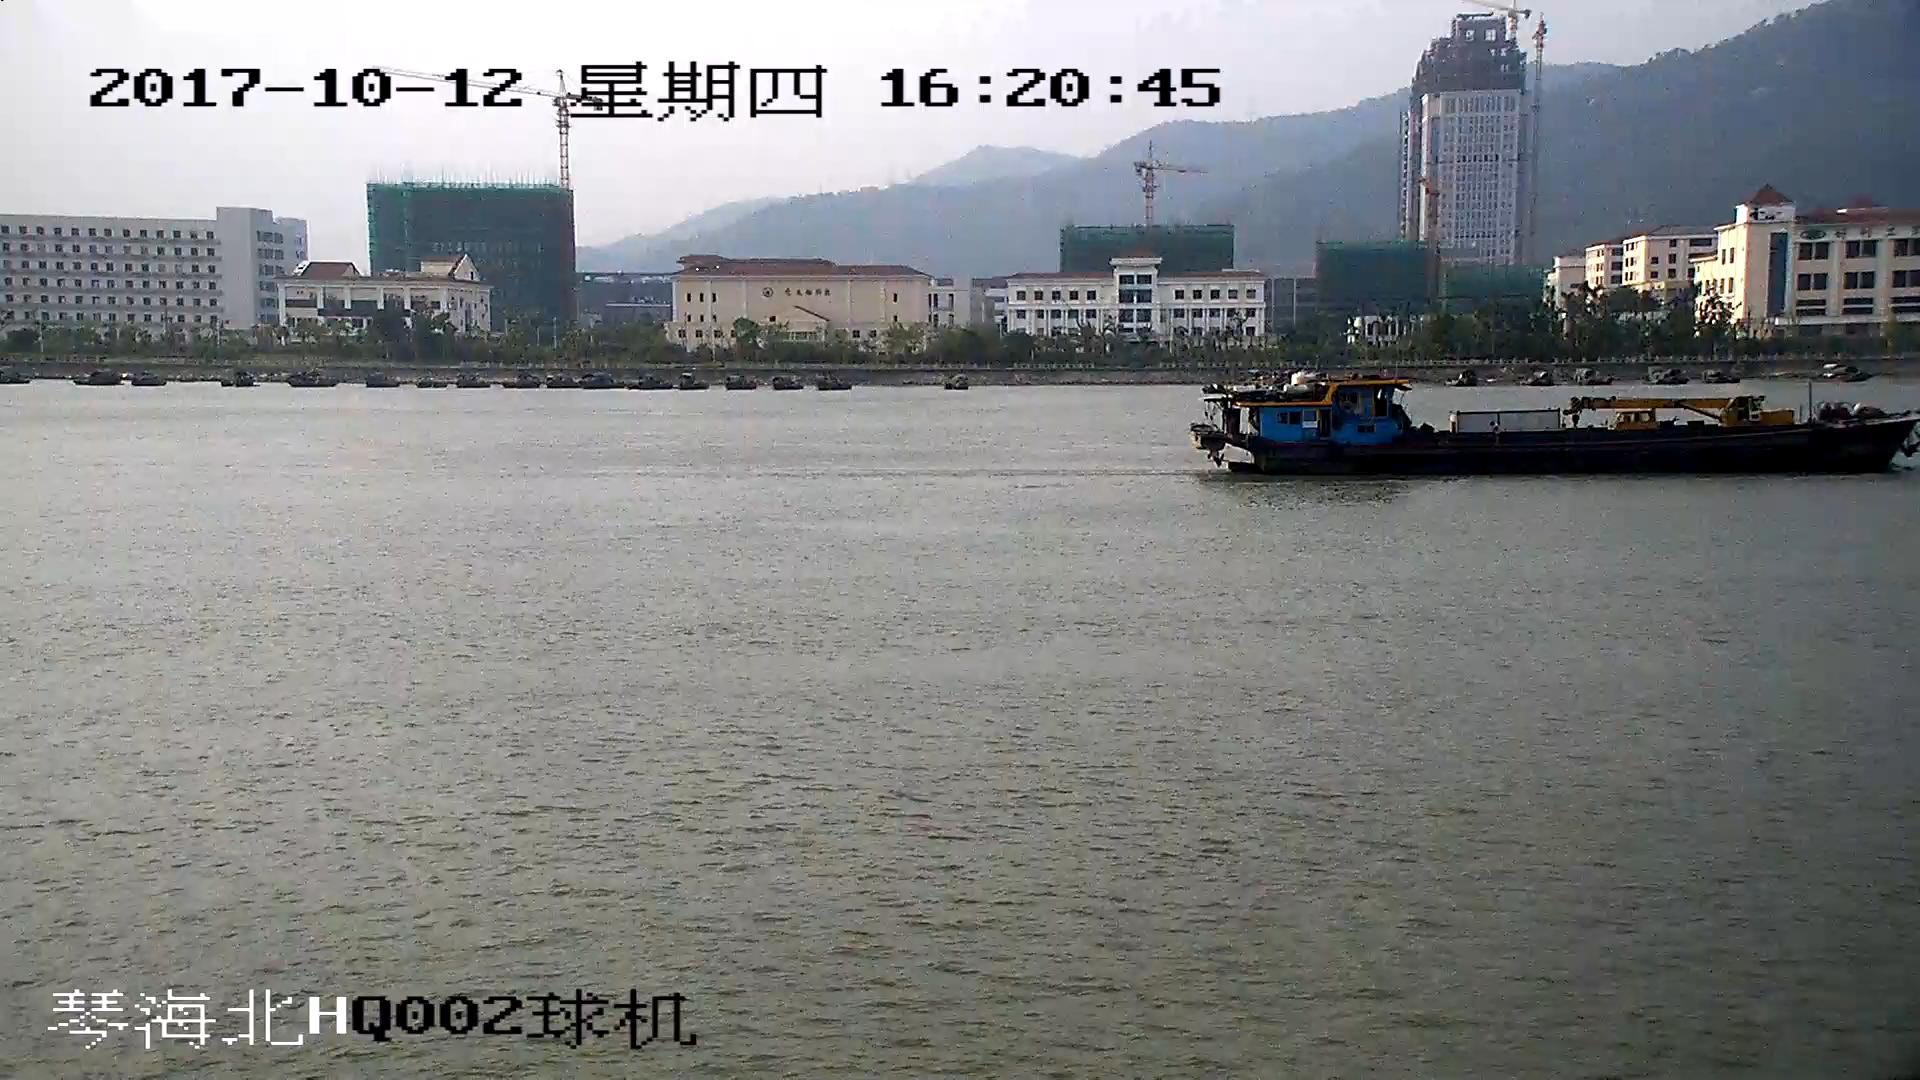fishing boat: (1202, 370, 1920, 481)
